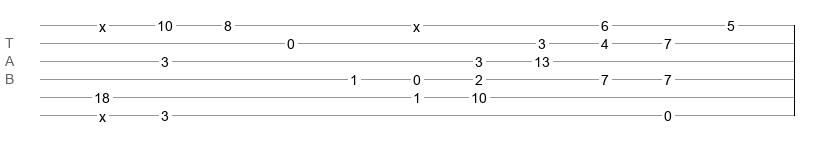0: (287, 36, 295, 46), (413, 72, 421, 82), (664, 108, 672, 118)
1: (350, 72, 358, 82), (413, 90, 421, 100)
10: (157, 18, 173, 28), (471, 90, 487, 100)
13: (534, 54, 550, 64)
18: (94, 90, 110, 100)
2: (475, 72, 483, 82)
3: (161, 54, 169, 64), (161, 108, 169, 118), (475, 54, 483, 64), (538, 36, 546, 46)
4: (601, 36, 609, 46)
5: (727, 18, 735, 28)
6: (601, 18, 609, 28)
7: (601, 72, 609, 82), (664, 72, 672, 82), (664, 36, 672, 46)
8: (224, 18, 232, 28)
x: (99, 109, 106, 117), (99, 19, 106, 27), (413, 19, 420, 27)
